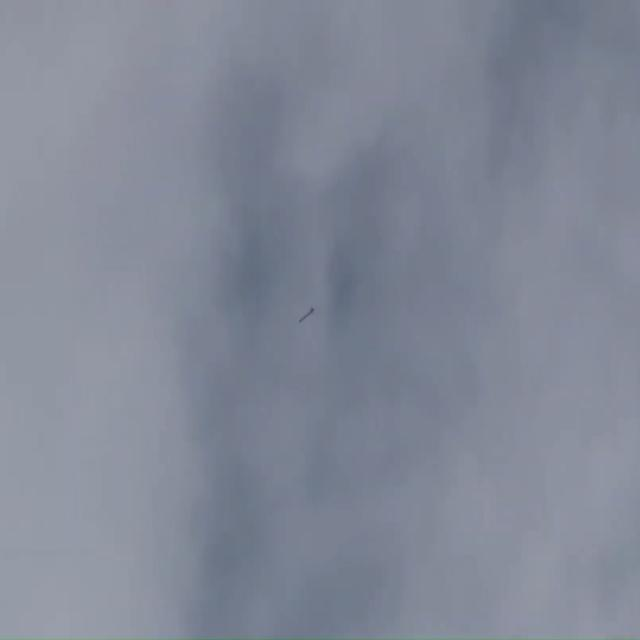Rocket: (299, 307, 314, 323)
